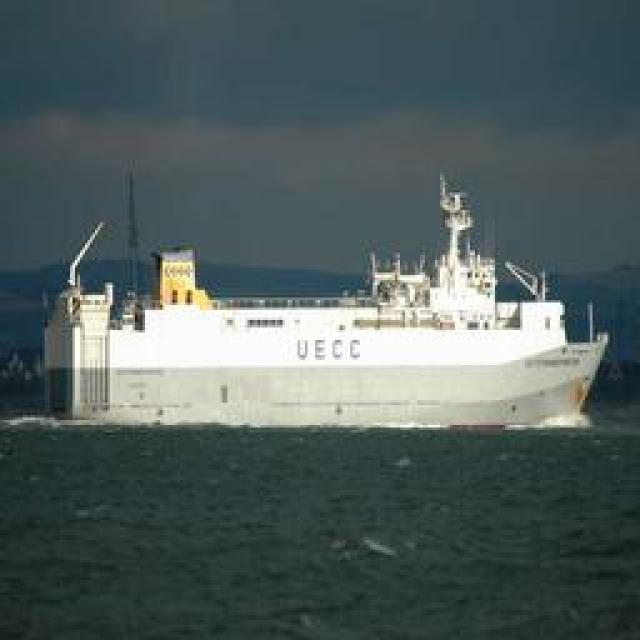Ship: (55, 182, 605, 430)
